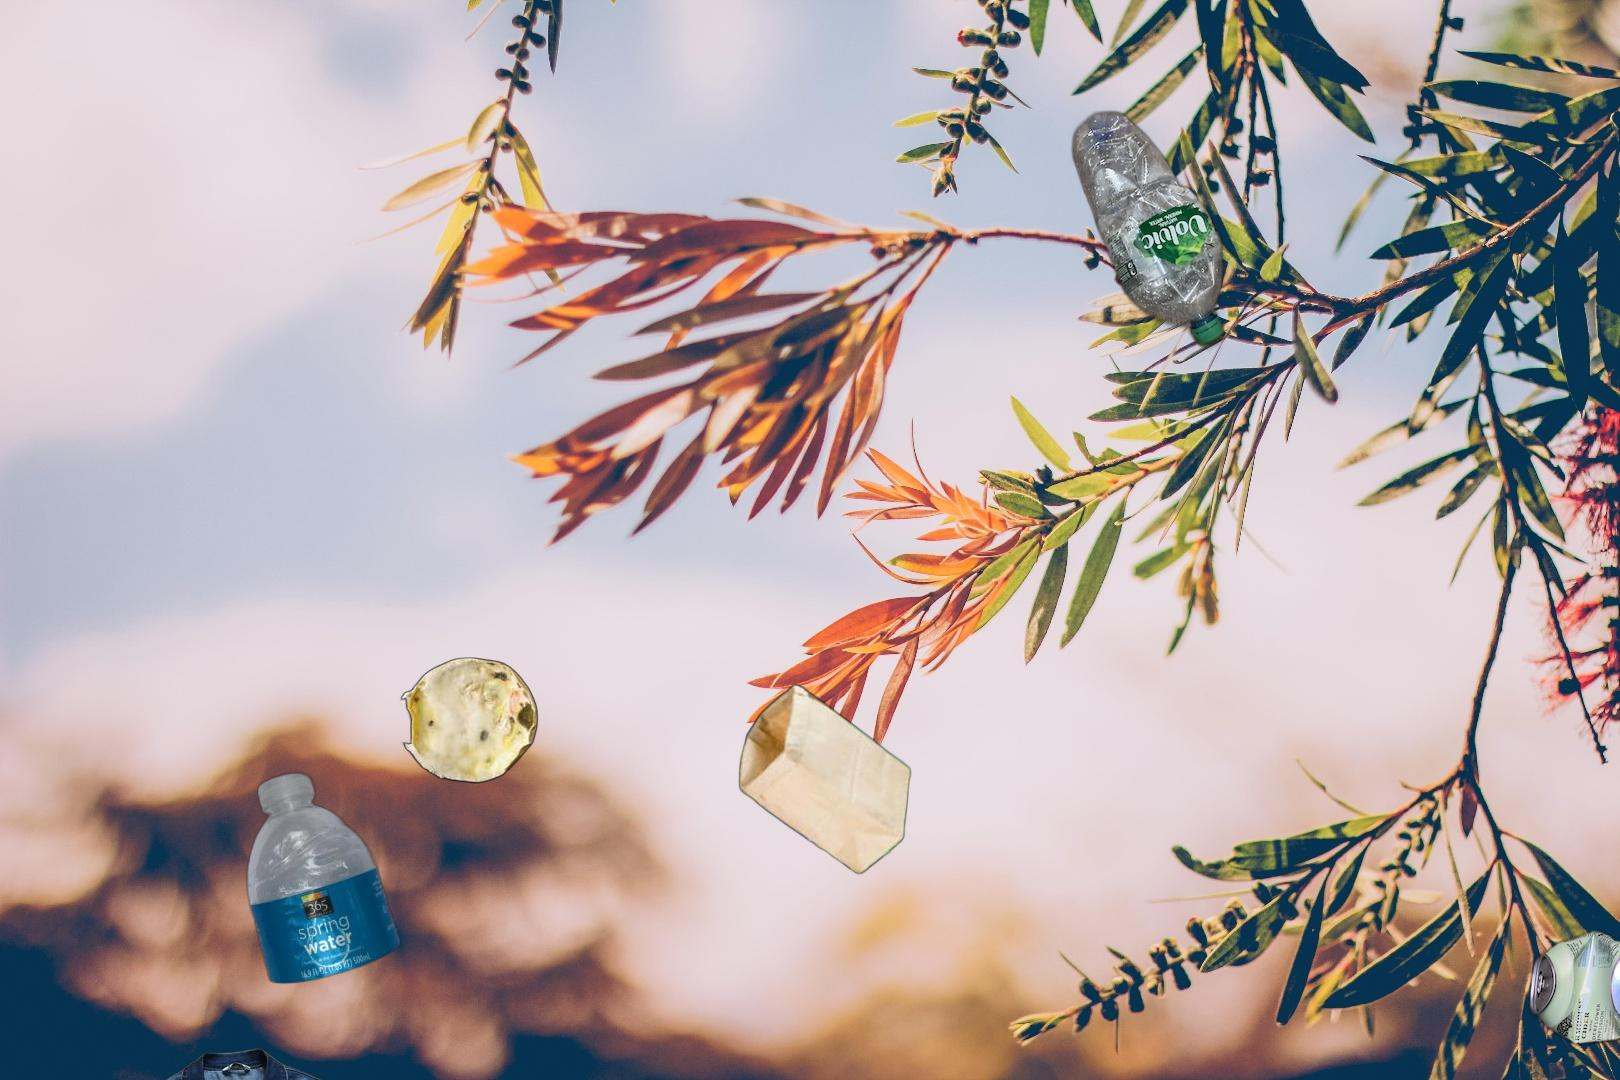biological: (398, 655, 541, 786)
clothes: (60, 1045, 434, 1080)
metal-cans: (1525, 595, 1620, 1050)
paper-bag: (736, 681, 912, 877)
plastic-bottles: (1069, 105, 1228, 356), (243, 769, 405, 987)
